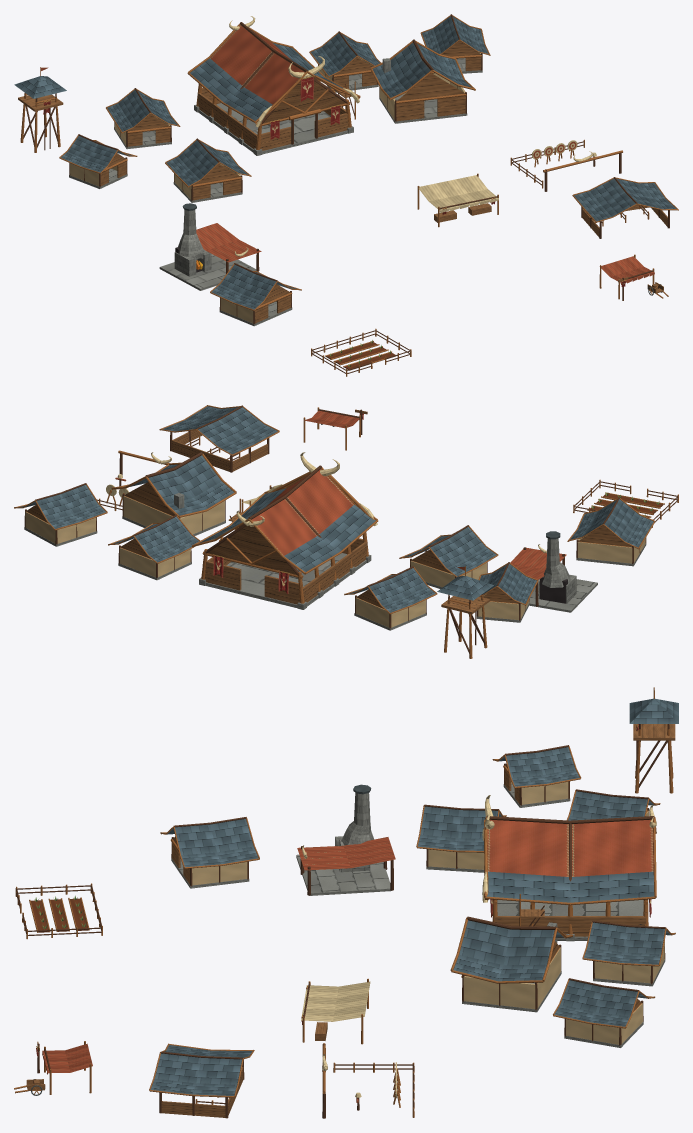
File: phase_3_lod1.glb
3 views of the same model, one above another, from view 1: azimuth 30°, elevation 25°; view 2: azimuth 150°, elevation 25°; view 3: azimuth 270°, elevation 25° (orthographic). The views are drawn at different scales.
Parts seen in each view (by area): view 1: hall_LOD1_F3, tavern_LOD1_F3, forge_LOD1_F3, store_LOD1_F3, workshop_LOD1_F3, stable_LOD1_F3, house_a_LOD1_F3, house_c_LOD1_F3, house_b_LOD1_F3, market_LOD1_F3, house_d_LOD1_F3, tower_LOD1_F3 (+3 smaller); view 2: hall_LOD1_F3, tavern_LOD1_F3, stable_LOD1_F3, workshop_LOD1_F3, house_d_LOD1_F3, house_c_LOD1_F3, house_a_LOD1_F3, forge_LOD1_F3, store_LOD1_F3, house_b_LOD1_F3, tower_LOD1_F3, herbs_LOD1_F3 (+2 smaller); view 3: hall_LOD1_F3, tavern_LOD1_F3, forge_LOD1_F3, stable_LOD1_F3, workshop_LOD1_F3, house_d_LOD1_F3, house_c_LOD1_F3, store_LOD1_F3, house_b_LOD1_F3, market_LOD1_F3, tower_LOD1_F3, herbs_LOD1_F3 (+3 smaller).
Boxes of the visible parts, x1,y1,x2,y2 form: hall_LOD1_F3: [187, 16, 360, 155]; tavern_LOD1_F3: [370, 39, 475, 123]; forge_LOD1_F3: [159, 203, 261, 290]; store_LOD1_F3: [165, 138, 251, 202]; workshop_LOD1_F3: [210, 263, 301, 326]; stable_LOD1_F3: [572, 177, 678, 238]; house_a_LOD1_F3: [106, 88, 180, 149]; house_c_LOD1_F3: [309, 31, 380, 92]; house_b_LOD1_F3: [59, 134, 137, 188]; market_LOD1_F3: [417, 173, 498, 227]; house_d_LOD1_F3: [420, 14, 490, 73]; tower_LOD1_F3: [14, 67, 66, 152]; hall_LOD1_F3: [192, 452, 378, 609]; tavern_LOD1_F3: [111, 452, 236, 535]; stable_LOD1_F3: [159, 405, 279, 472]; workshop_LOD1_F3: [567, 497, 655, 566]; house_d_LOD1_F3: [14, 483, 107, 546]; house_c_LOD1_F3: [108, 514, 200, 580]; house_a_LOD1_F3: [344, 566, 437, 630]; forge_LOD1_F3: [510, 531, 597, 612]; store_LOD1_F3: [399, 525, 498, 588]; house_b_LOD1_F3: [476, 562, 538, 622]; tower_LOD1_F3: [437, 566, 493, 658]; herbs_LOD1_F3: [573, 479, 678, 527]; hall_LOD1_F3: [482, 795, 656, 941]; tavern_LOD1_F3: [450, 916, 572, 1012]; forge_LOD1_F3: [296, 784, 395, 895]; stable_LOD1_F3: [149, 1043, 254, 1118]; workshop_LOD1_F3: [160, 817, 259, 888]; house_d_LOD1_F3: [553, 978, 655, 1047]; house_c_LOD1_F3: [582, 920, 675, 986]; store_LOD1_F3: [416, 804, 506, 872]; house_b_LOD1_F3: [492, 745, 581, 807]; market_LOD1_F3: [301, 978, 370, 1044]; tower_LOD1_F3: [629, 687, 678, 793]; herbs_LOD1_F3: [15, 883, 102, 939].
Size of what is drawn, in the model's own units: 82.16 by 24.23 by 79.37.
Materials: 1 (1 with a texture image).
